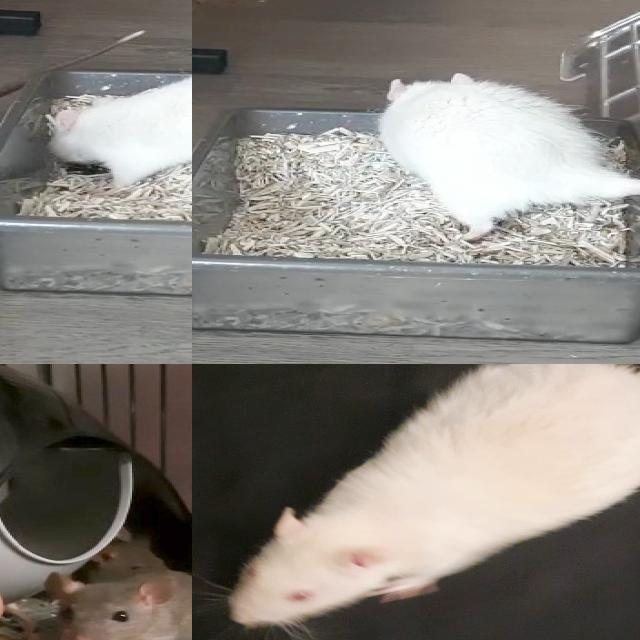rat: (225, 364, 640, 626), (376, 72, 611, 237), (41, 60, 192, 192), (39, 568, 192, 640), (90, 538, 166, 581)
